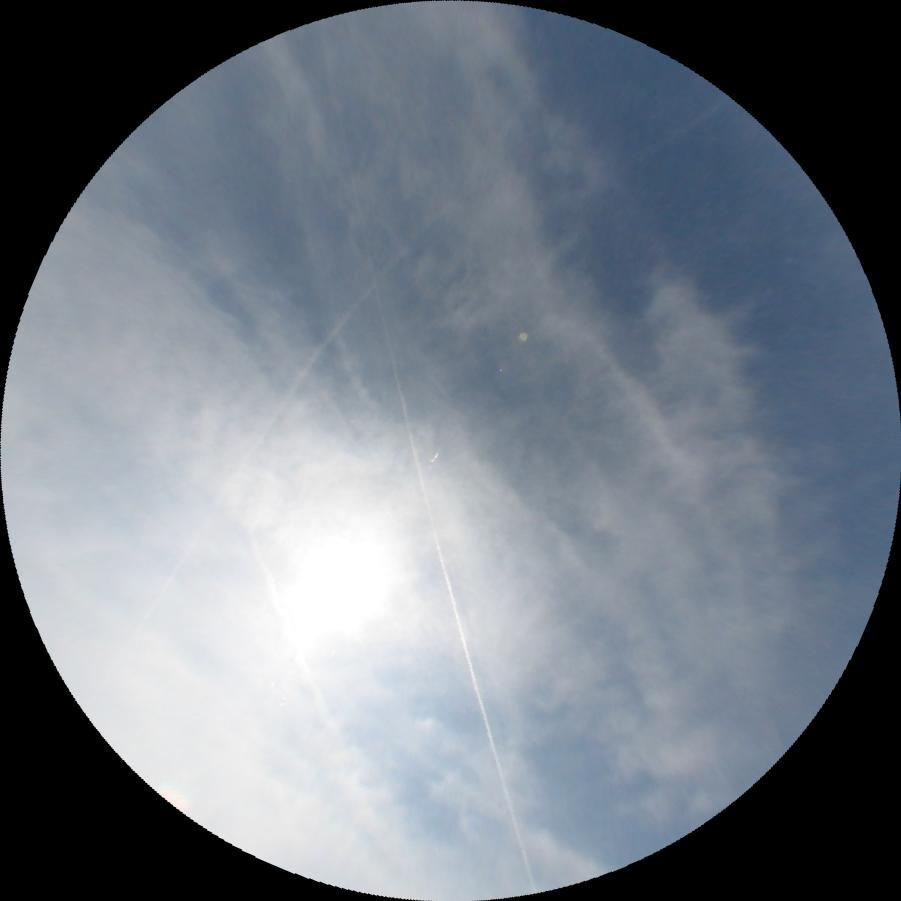contrail old: (328, 113, 536, 893), (109, 187, 453, 651), (241, 523, 337, 735)
sun: (269, 523, 401, 645)
